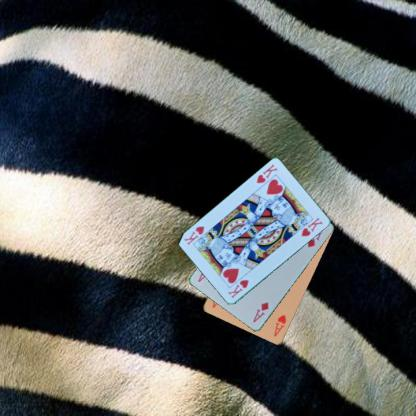Ad: (250, 299, 270, 324)
Ah: (272, 312, 287, 338)
Kh: (254, 162, 279, 185), (226, 278, 250, 300)
